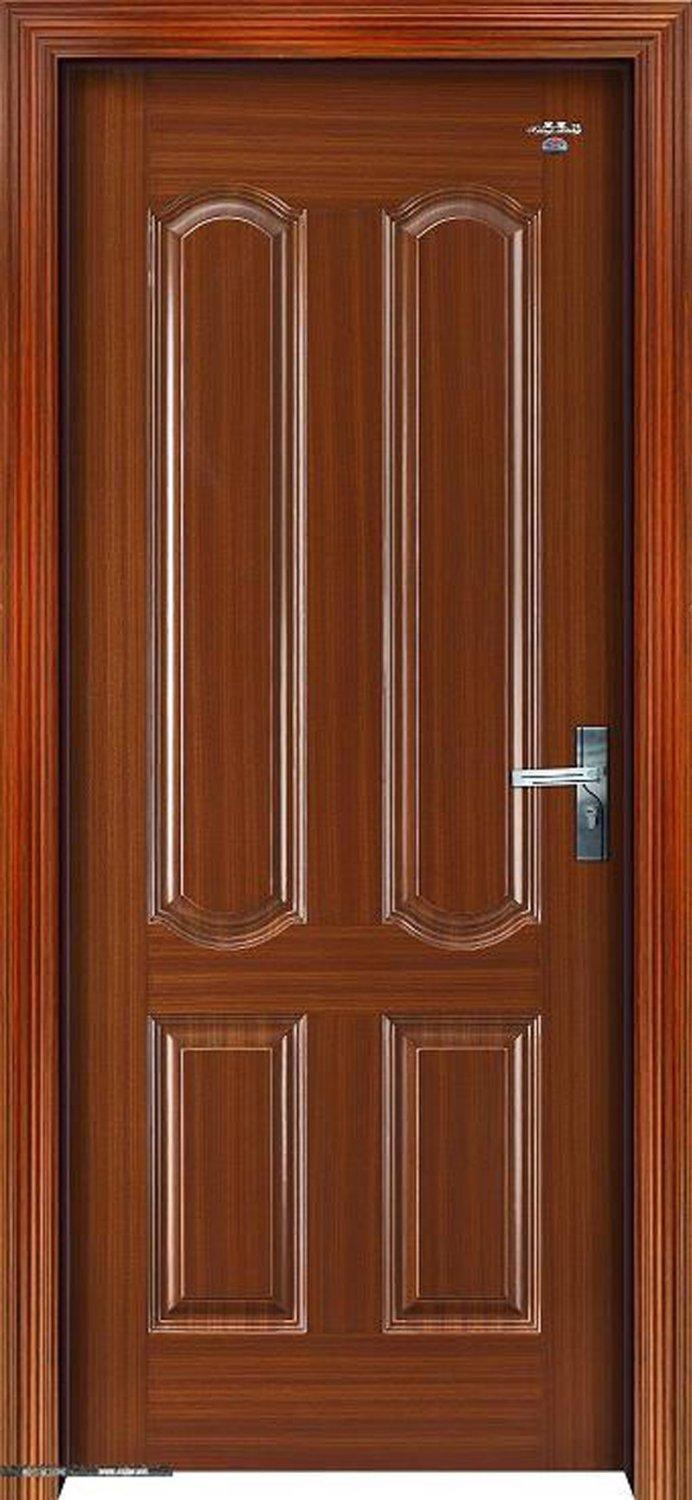door: (72, 76, 634, 1464)
